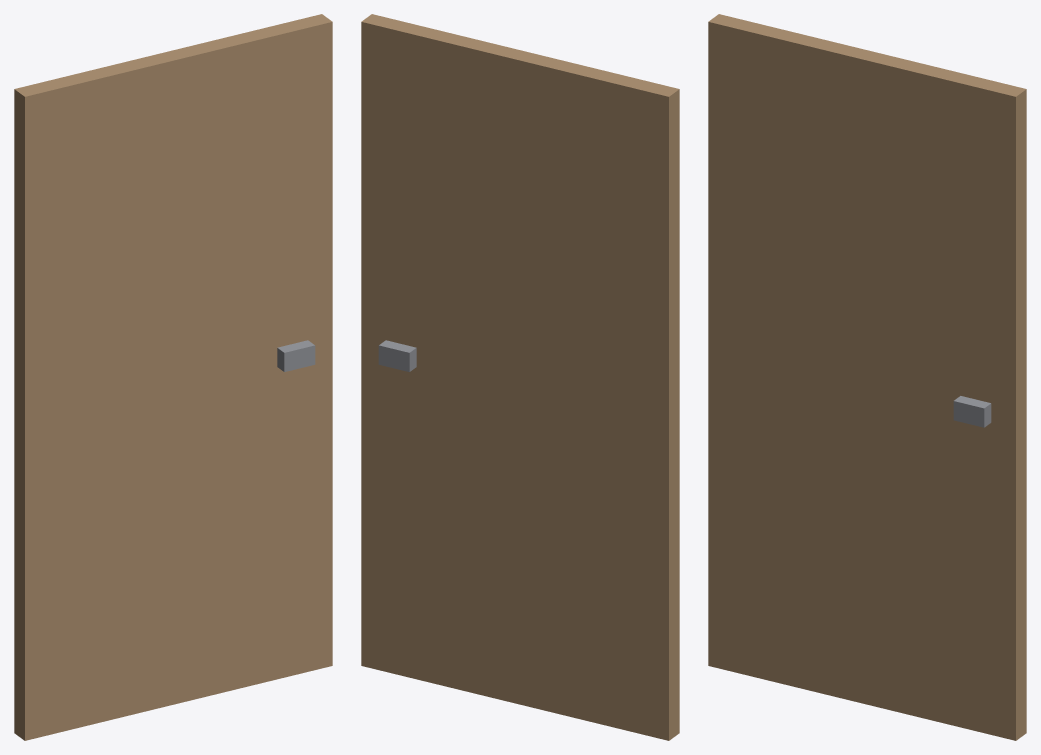
The model's file is door.glb.
3 renders of one model, left to right at view 1: azimuth 30°, elevation 25°; view 2: azimuth 150°, elevation 25°; view 3: azimuth 330°, elevation 25°, orthographic.
Parts seen in each view (by area): view 1: DOOR_BLADE, DOOR_HANDLE; view 2: DOOR_BLADE, DOOR_HANDLE; view 3: DOOR_BLADE, DOOR_HANDLE.
Part boxes in pixels (box(x1,y1,x2,y2)): DOOR_BLADE: box(14, 14, 332, 740); DOOR_HANDLE: box(277, 340, 315, 371); DOOR_BLADE: box(361, 14, 679, 740); DOOR_HANDLE: box(378, 340, 416, 371); DOOR_BLADE: box(708, 14, 1026, 740); DOOR_HANDLE: box(953, 396, 991, 427).
Size of the model in its own units: 1 by 2 by 0.14.
